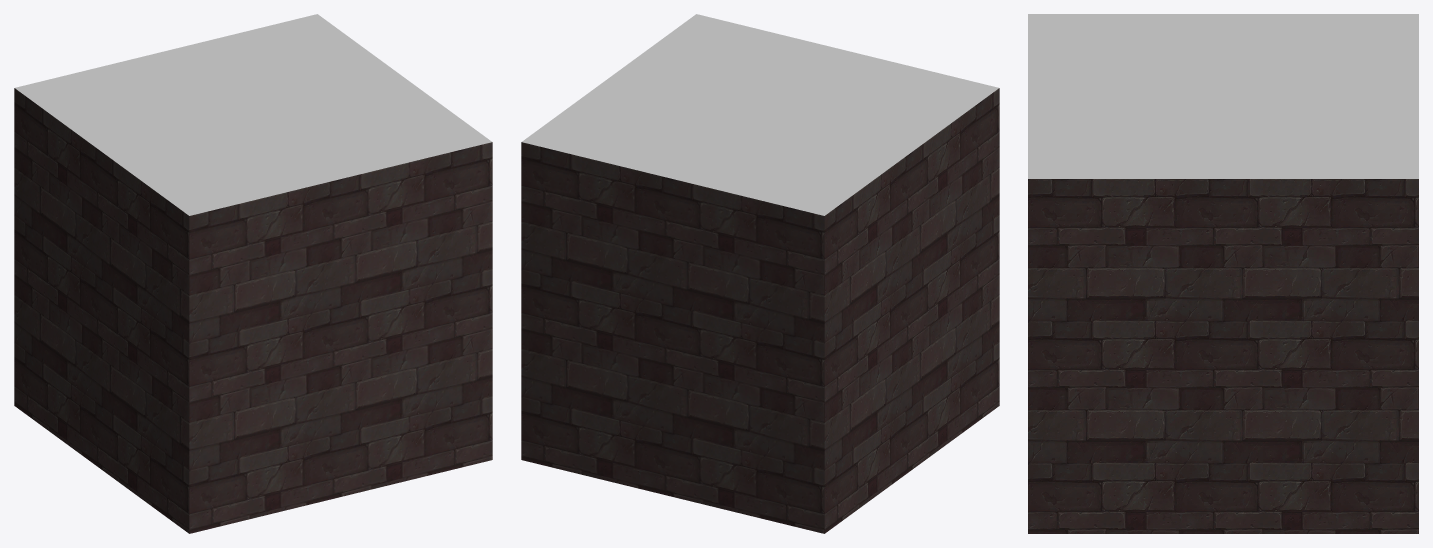
File: 10504_Square10.FBX
3 views of the same model, side by side, from view 1: azimuth 30°, elevation 25°; view 2: azimuth 150°, elevation 25°; view 3: azimuth 270°, elevation 25° (orthographic). The views are drawn at different scales.
Visible parts, largest first — view 1: Object910, Object911; view 2: Object910, Object911; view 3: Object910, Object911.
Part boxes in pixels (x1=…): Object910: x1=14, y1=88, x2=492, y2=533; Object911: x1=15, y1=14, x2=491, y2=215; Object910: x1=521, y1=88, x2=999, y2=533; Object911: x1=522, y1=14, x2=998, y2=215; Object910: x1=1028, y1=179, x2=1418, y2=533; Object911: x1=1028, y1=14, x2=1418, y2=178.
Bounding box in the file's own units: 1000 × 1002 × 1000.
